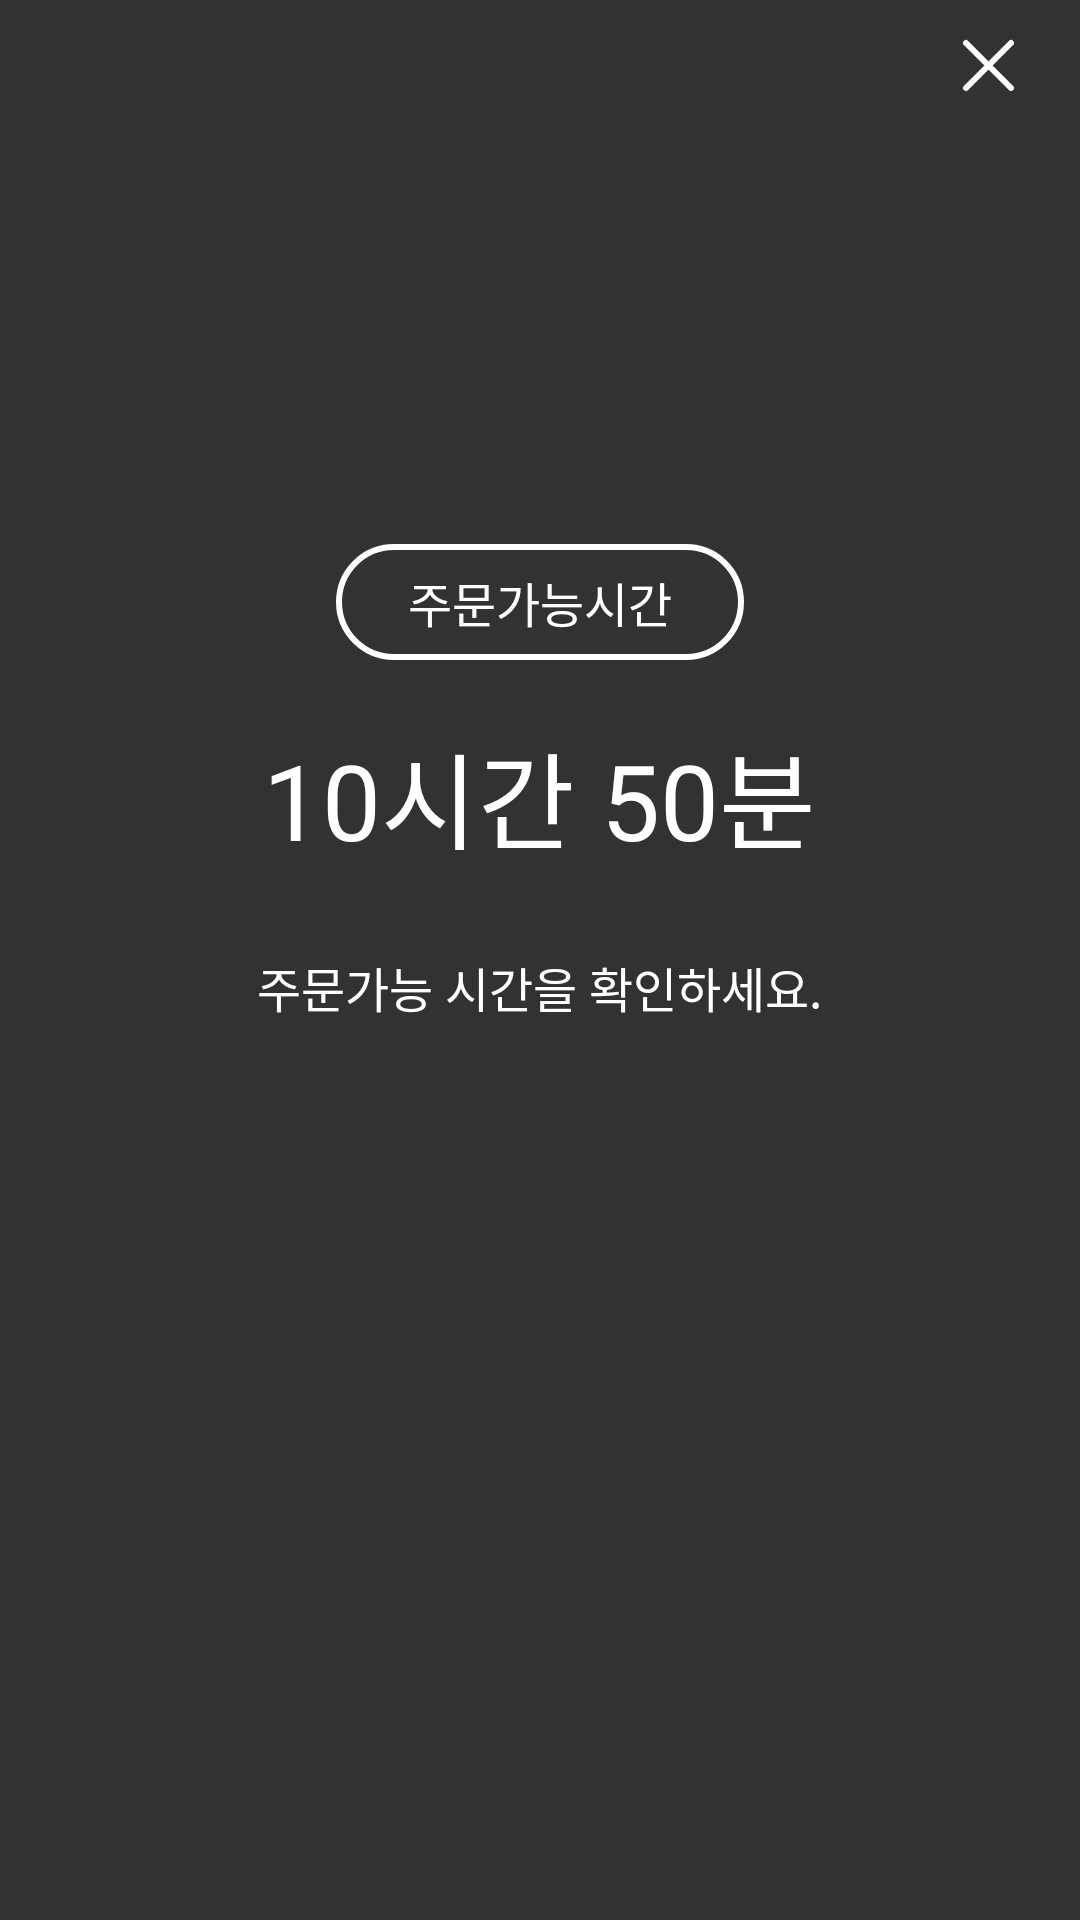

Point at icon controls on the screen. Image size 1080x1920, points as (x,y).
close: (988,65)
